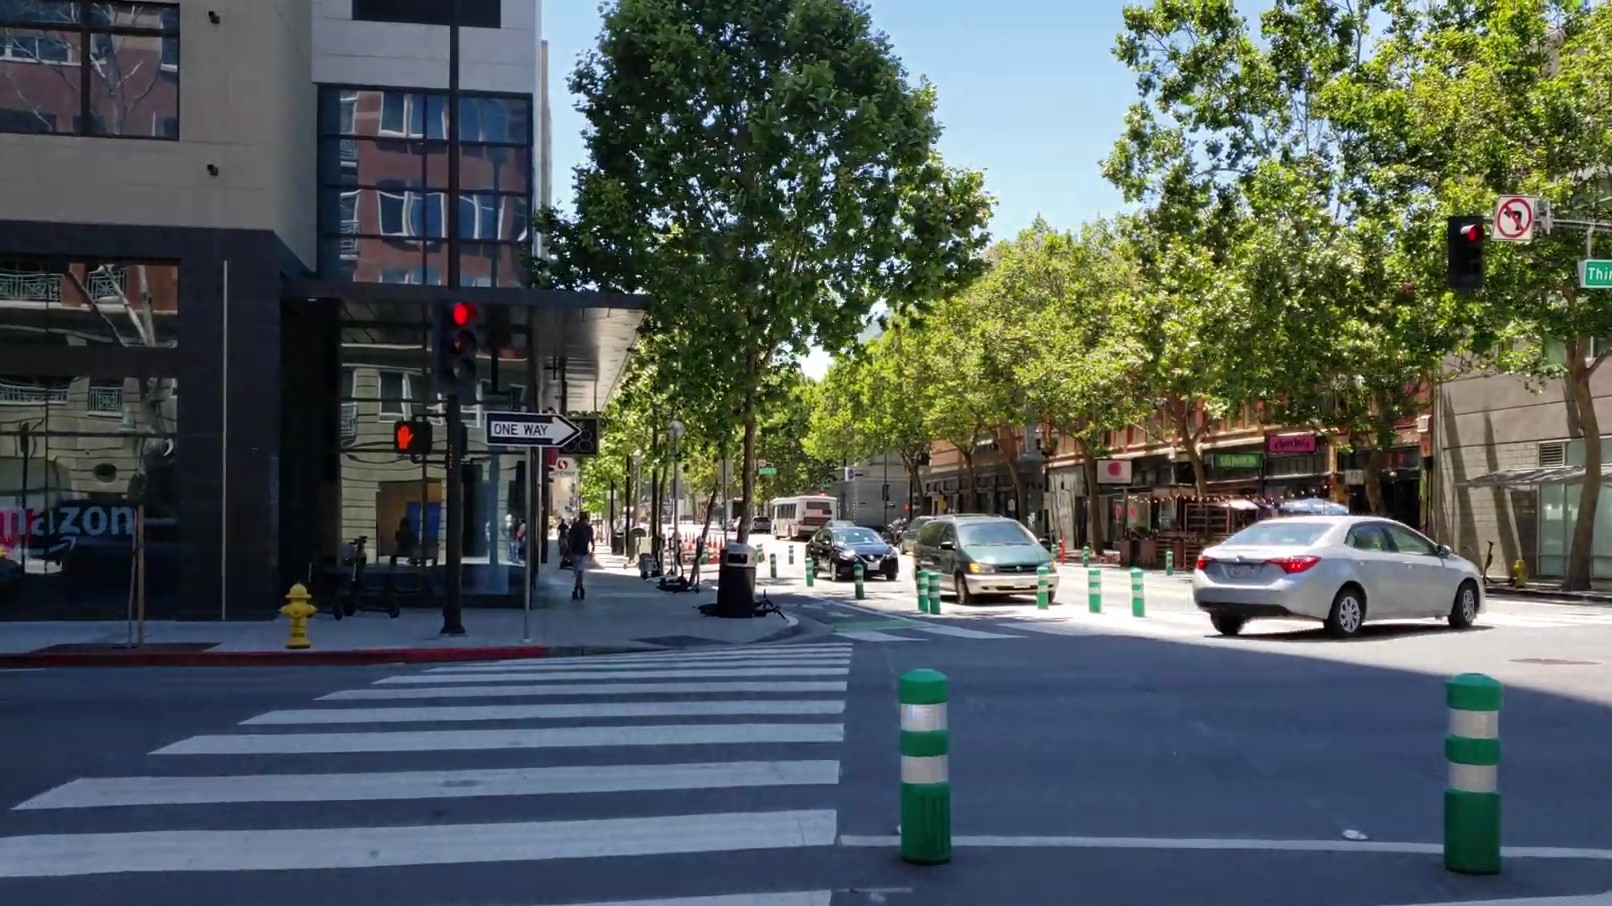vehicle: (1191, 516, 1487, 641), (910, 517, 1058, 603), (802, 526, 899, 583)
